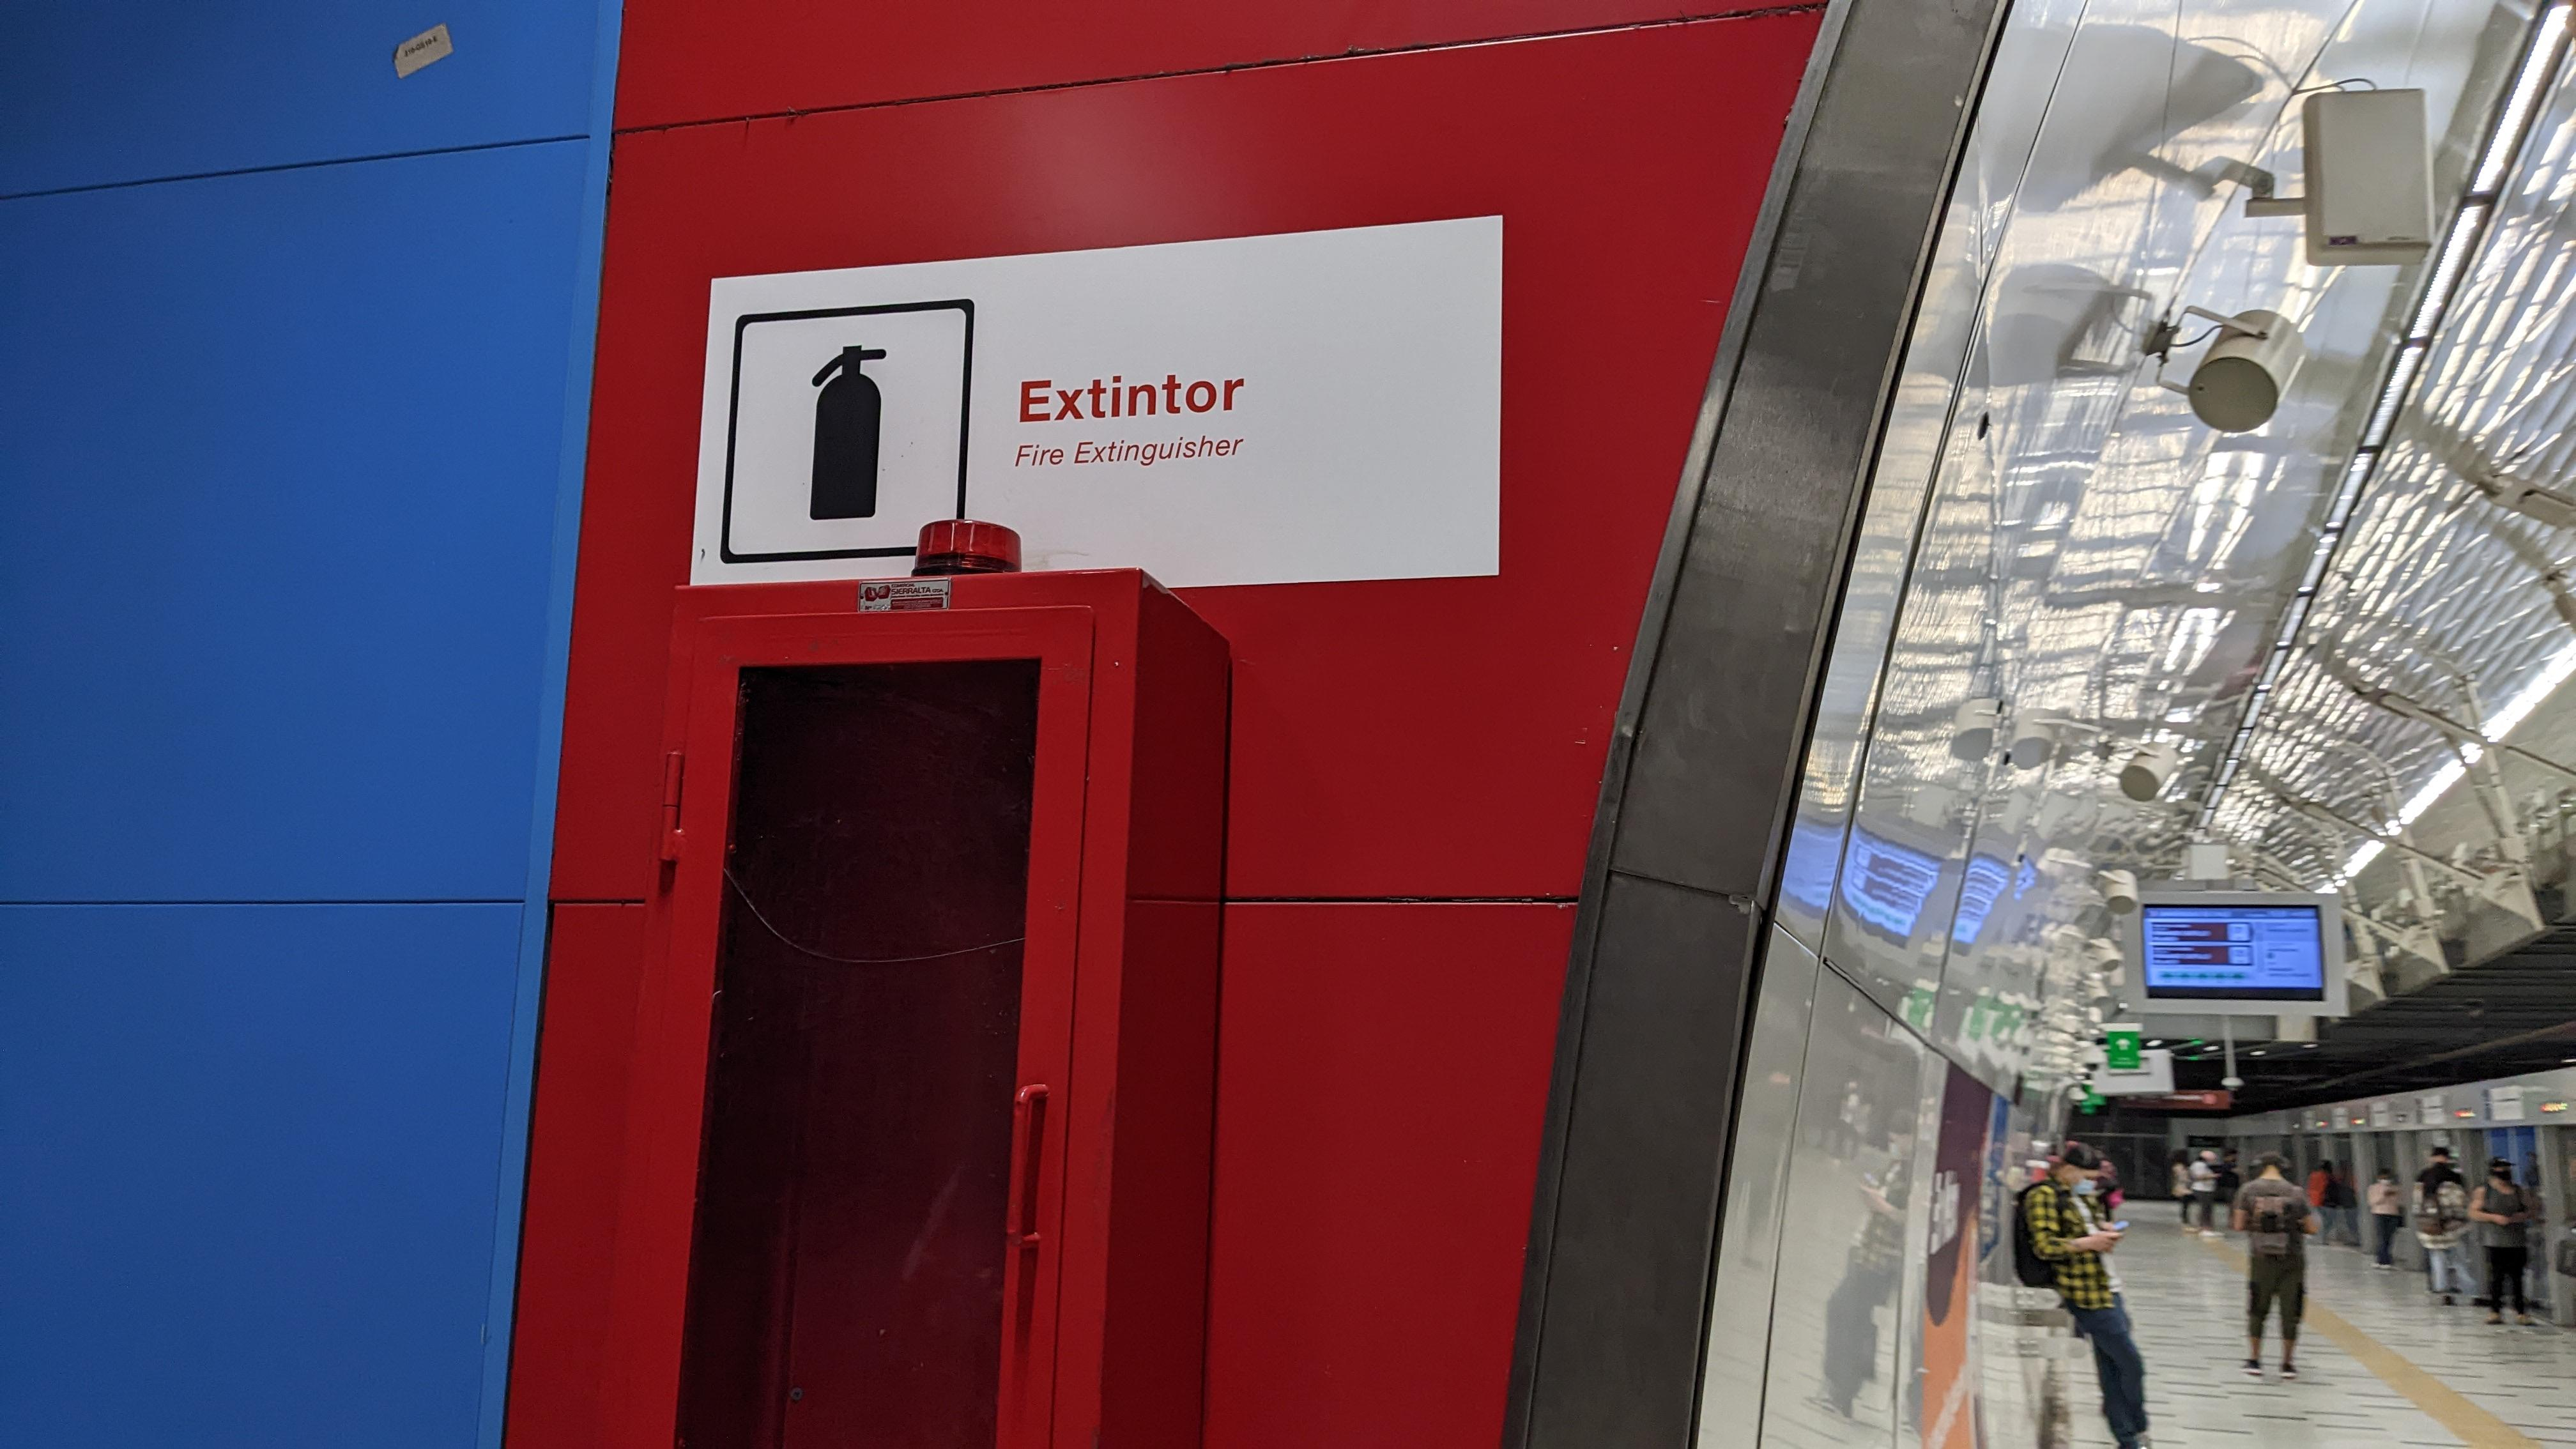extinguisher symbol: (801, 336, 895, 531)
